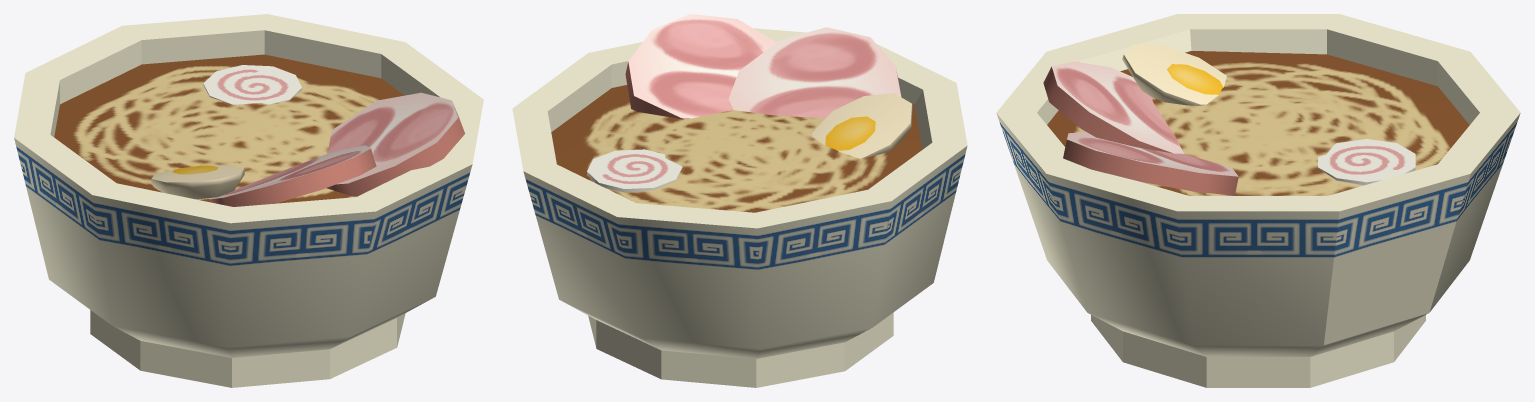
File: ramen.fbx
The picture shows the model from 3 angles, left to right: view 1: azimuth 30°, elevation 25°; view 2: azimuth 150°, elevation 25°; view 3: azimuth 270°, elevation 25°; orthographic projection. The views are drawn at different scales.
Visible parts, largest first — view 1: pCylinder1, pCylinder2, pCylinder3, pCylinder4, pCylinder5; view 2: pCylinder1, pCylinder3, pCylinder2, pCylinder5, pCylinder4; view 3: pCylinder1, pCylinder3, pCylinder2, pCylinder5, pCylinder4.
Part boxes in pixels (box(x1,y1,x2,y2)): pCylinder1: box(14, 14, 483, 387); pCylinder2: box(326, 92, 464, 196); pCylinder3: box(209, 145, 376, 206); pCylinder4: box(203, 65, 301, 104); pCylinder5: box(151, 165, 244, 199); pCylinder1: box(512, 28, 967, 387); pCylinder3: box(728, 27, 901, 118); pCylinder2: box(625, 14, 776, 119); pCylinder5: box(812, 93, 913, 158); pCylinder4: box(587, 149, 682, 192); pCylinder1: box(996, 14, 1520, 387); pCylinder3: box(1043, 61, 1183, 153); pCylinder2: box(1063, 132, 1238, 195); pCylinder5: box(1122, 44, 1226, 105); pCylinder4: box(1318, 139, 1415, 185).
Bounding box in the file's own units: 165 × 93 × 185.
